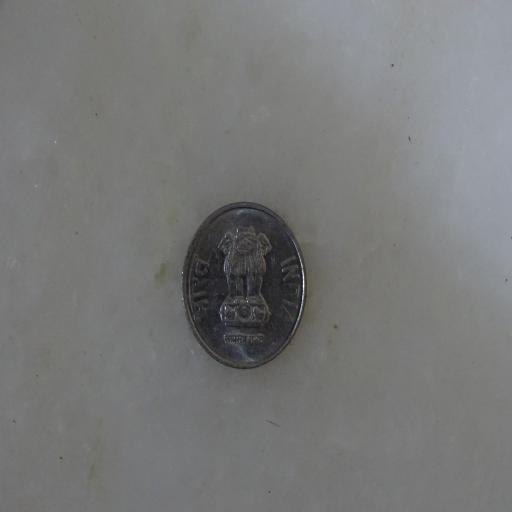rupee1: (181, 200, 308, 371)
